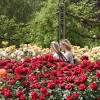rose: (0, 56, 99, 99)
